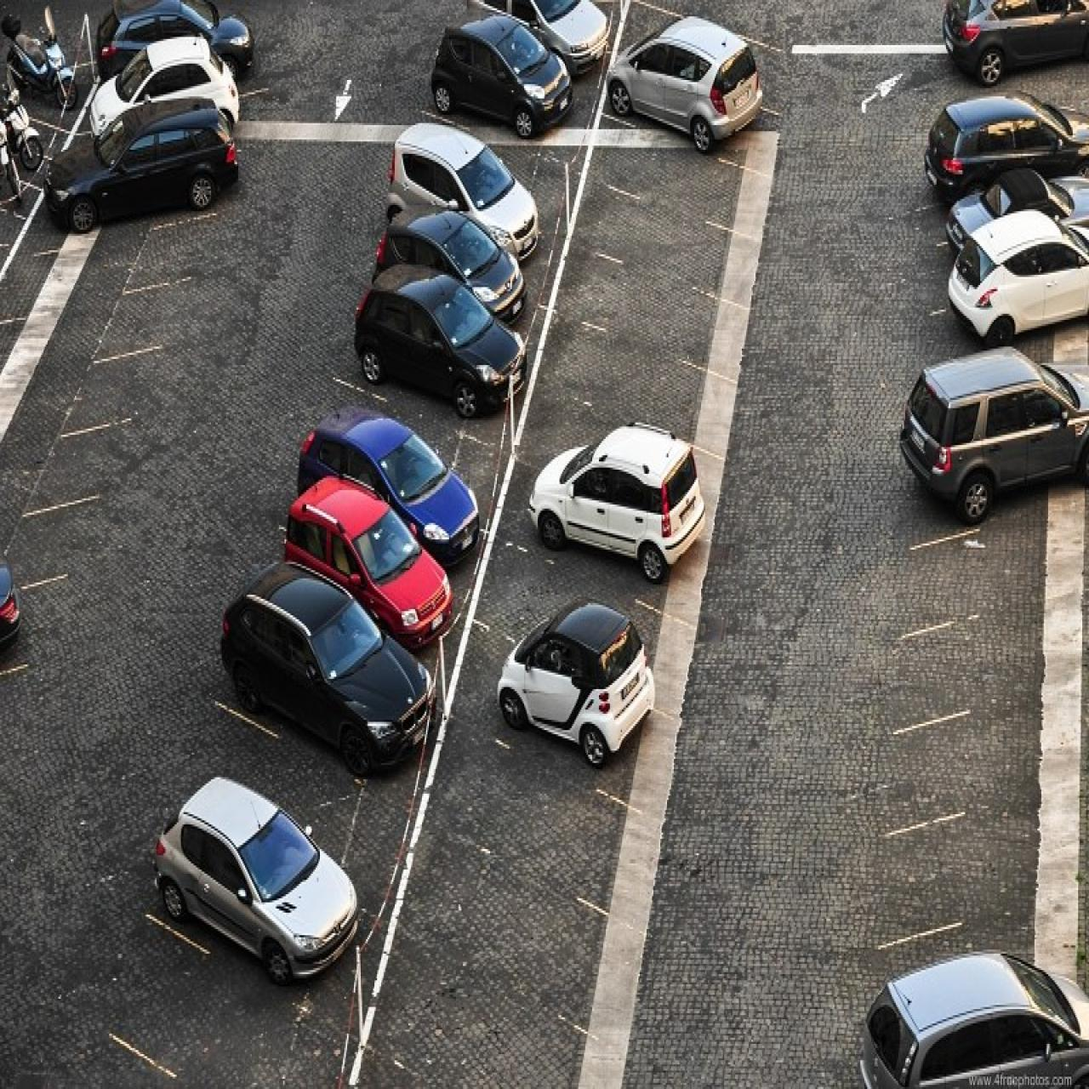cars: (165, 803, 364, 1002), (233, 612, 430, 788), (279, 532, 472, 688), (468, 639, 654, 797), (310, 457, 476, 593), (880, 984, 1087, 1089), (348, 290, 512, 421), (44, 119, 233, 230), (516, 455, 686, 578), (393, 162, 547, 281), (371, 228, 521, 347), (907, 411, 1083, 508), (933, 172, 1082, 281), (940, 235, 1086, 344), (620, 57, 757, 162), (438, 19, 572, 126), (932, 104, 1086, 176), (91, 20, 251, 85), (82, 80, 240, 145), (478, 0, 602, 66)
empty: (409, 840, 620, 1016), (109, 927, 326, 1089), (436, 737, 626, 922), (191, 719, 386, 891), (379, 960, 578, 1089), (871, 811, 1067, 934), (316, 372, 493, 506), (899, 505, 1084, 624), (490, 554, 670, 675), (575, 240, 738, 373), (575, 176, 741, 305), (546, 308, 707, 431), (881, 711, 1065, 813), (862, 932, 1076, 1016), (899, 609, 1068, 714), (0, 276, 166, 372), (596, 133, 755, 230), (530, 397, 696, 489), (0, 225, 188, 305), (418, 106, 554, 215), (916, 329, 1087, 397), (0, 347, 136, 431), (632, 5, 768, 77), (0, 429, 104, 499)
